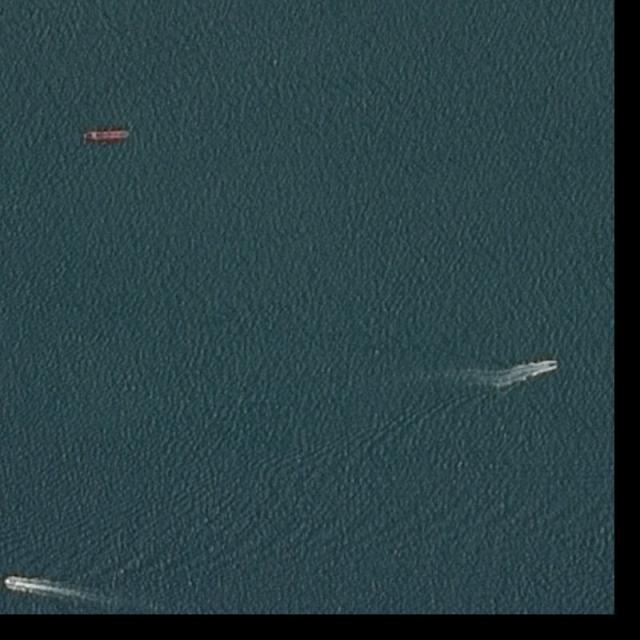ship: (84, 130, 130, 141), (1, 578, 17, 588), (550, 362, 559, 367)
